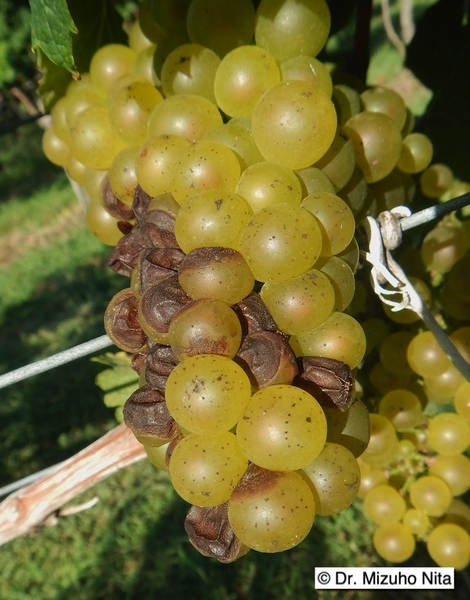Diseased: (239, 387, 326, 471), (169, 356, 248, 430), (235, 474, 313, 548), (174, 435, 243, 506), (251, 213, 321, 279), (303, 444, 368, 513), (176, 248, 253, 301), (110, 217, 177, 277), (175, 195, 249, 249), (346, 113, 398, 186), (167, 303, 239, 355), (267, 275, 332, 328), (292, 313, 365, 356), (106, 288, 152, 353), (180, 142, 235, 195), (182, 508, 240, 558), (241, 332, 295, 383), (301, 359, 356, 409), (123, 391, 172, 447), (142, 137, 184, 195), (240, 166, 301, 205), (144, 278, 185, 335), (112, 144, 146, 189), (135, 347, 173, 387), (99, 185, 138, 218), (239, 300, 267, 335)
Healthy: (255, 81, 338, 171), (259, 0, 333, 61), (215, 50, 278, 113), (186, 1, 253, 51), (300, 194, 356, 251), (146, 99, 225, 136), (164, 46, 221, 97), (74, 109, 120, 169), (111, 78, 149, 143), (65, 74, 116, 113), (90, 44, 137, 84), (361, 86, 406, 125), (400, 132, 435, 178), (223, 115, 253, 164), (85, 197, 116, 244), (44, 125, 72, 167), (336, 80, 360, 121), (51, 94, 76, 131), (67, 160, 92, 183)
